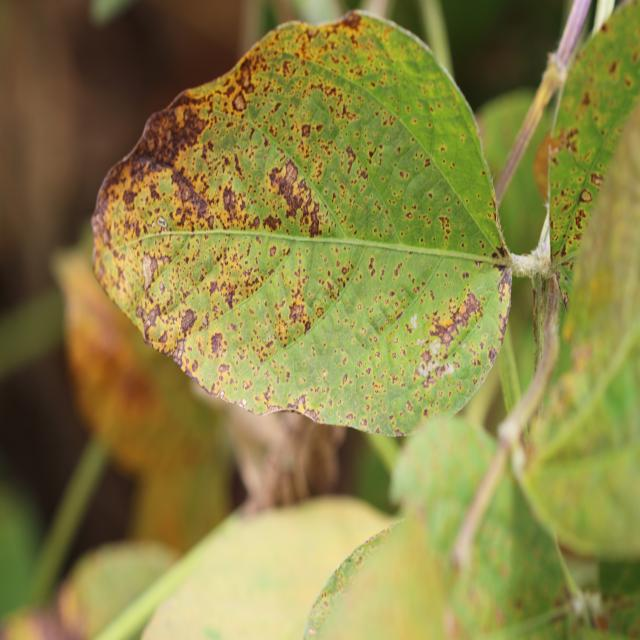Bacterial_Blight: (158, 106, 205, 156), (294, 200, 328, 240), (172, 300, 199, 336), (457, 291, 483, 323), (141, 252, 159, 290), (222, 184, 241, 219), (142, 304, 162, 336), (442, 608, 461, 640), (572, 202, 591, 233), (340, 11, 362, 30), (288, 301, 306, 324), (209, 331, 225, 356), (283, 159, 299, 184), (344, 145, 357, 171), (223, 285, 236, 310), (263, 214, 281, 232), (592, 612, 609, 631), (438, 313, 456, 328), (122, 189, 136, 207), (232, 93, 246, 111), (438, 216, 451, 235), (578, 188, 593, 204), (293, 394, 307, 411), (494, 245, 508, 261), (487, 346, 498, 365), (561, 289, 570, 312), (590, 172, 603, 187), (581, 91, 592, 107), (263, 385, 272, 404), (499, 280, 509, 297), (430, 340, 441, 355), (417, 362, 428, 377), (156, 216, 167, 230), (301, 123, 311, 138), (608, 60, 618, 75), (410, 313, 418, 329), (368, 146, 377, 160), (368, 257, 375, 274), (446, 362, 455, 375), (269, 245, 277, 257), (395, 428, 405, 437), (355, 555, 363, 565), (342, 373, 348, 385), (405, 211, 413, 219), (308, 627, 316, 635), (341, 266, 348, 275), (360, 418, 367, 427), (313, 609, 320, 618), (219, 389, 225, 399), (322, 370, 328, 379), (241, 397, 247, 406), (323, 599, 329, 608), (346, 413, 353, 420), (151, 221, 156, 229)
Soybean: (92, 11, 531, 435)
